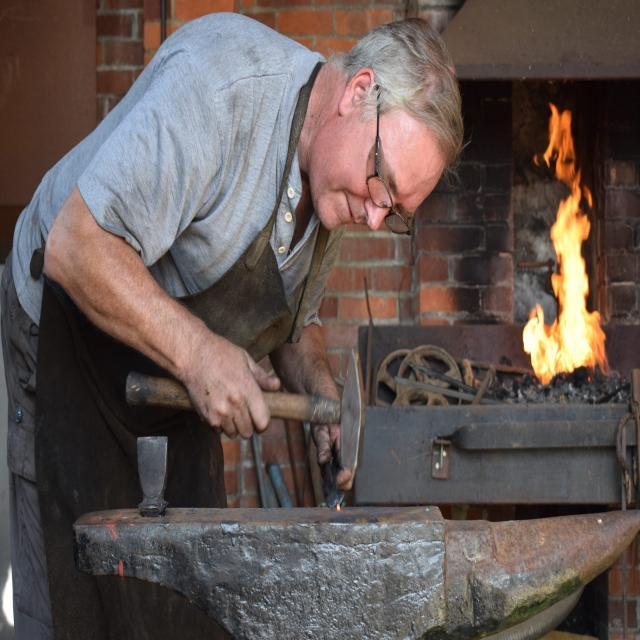hammer: (106, 339, 377, 494)
